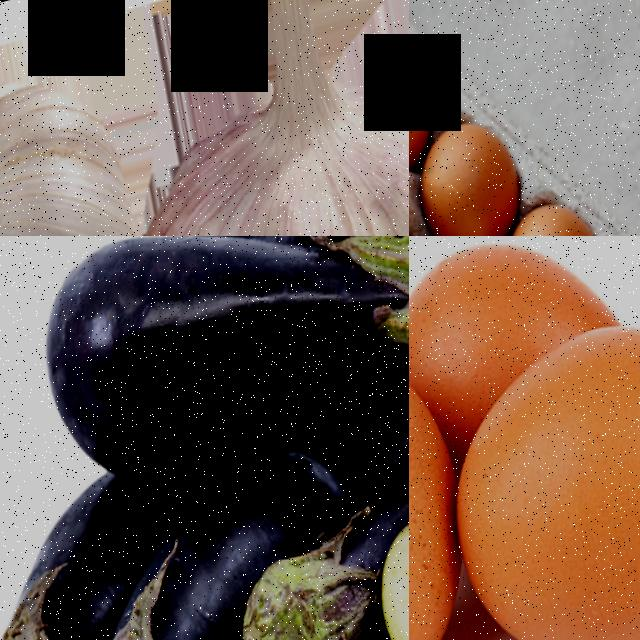egg_: (416, 295, 640, 640), (409, 317, 504, 640), (409, 111, 531, 236), (495, 193, 621, 236), (409, 38, 441, 185)
eggplant: (17, 236, 409, 511), (51, 491, 288, 640)
garlic: (100, 0, 409, 236), (0, 45, 171, 236)
